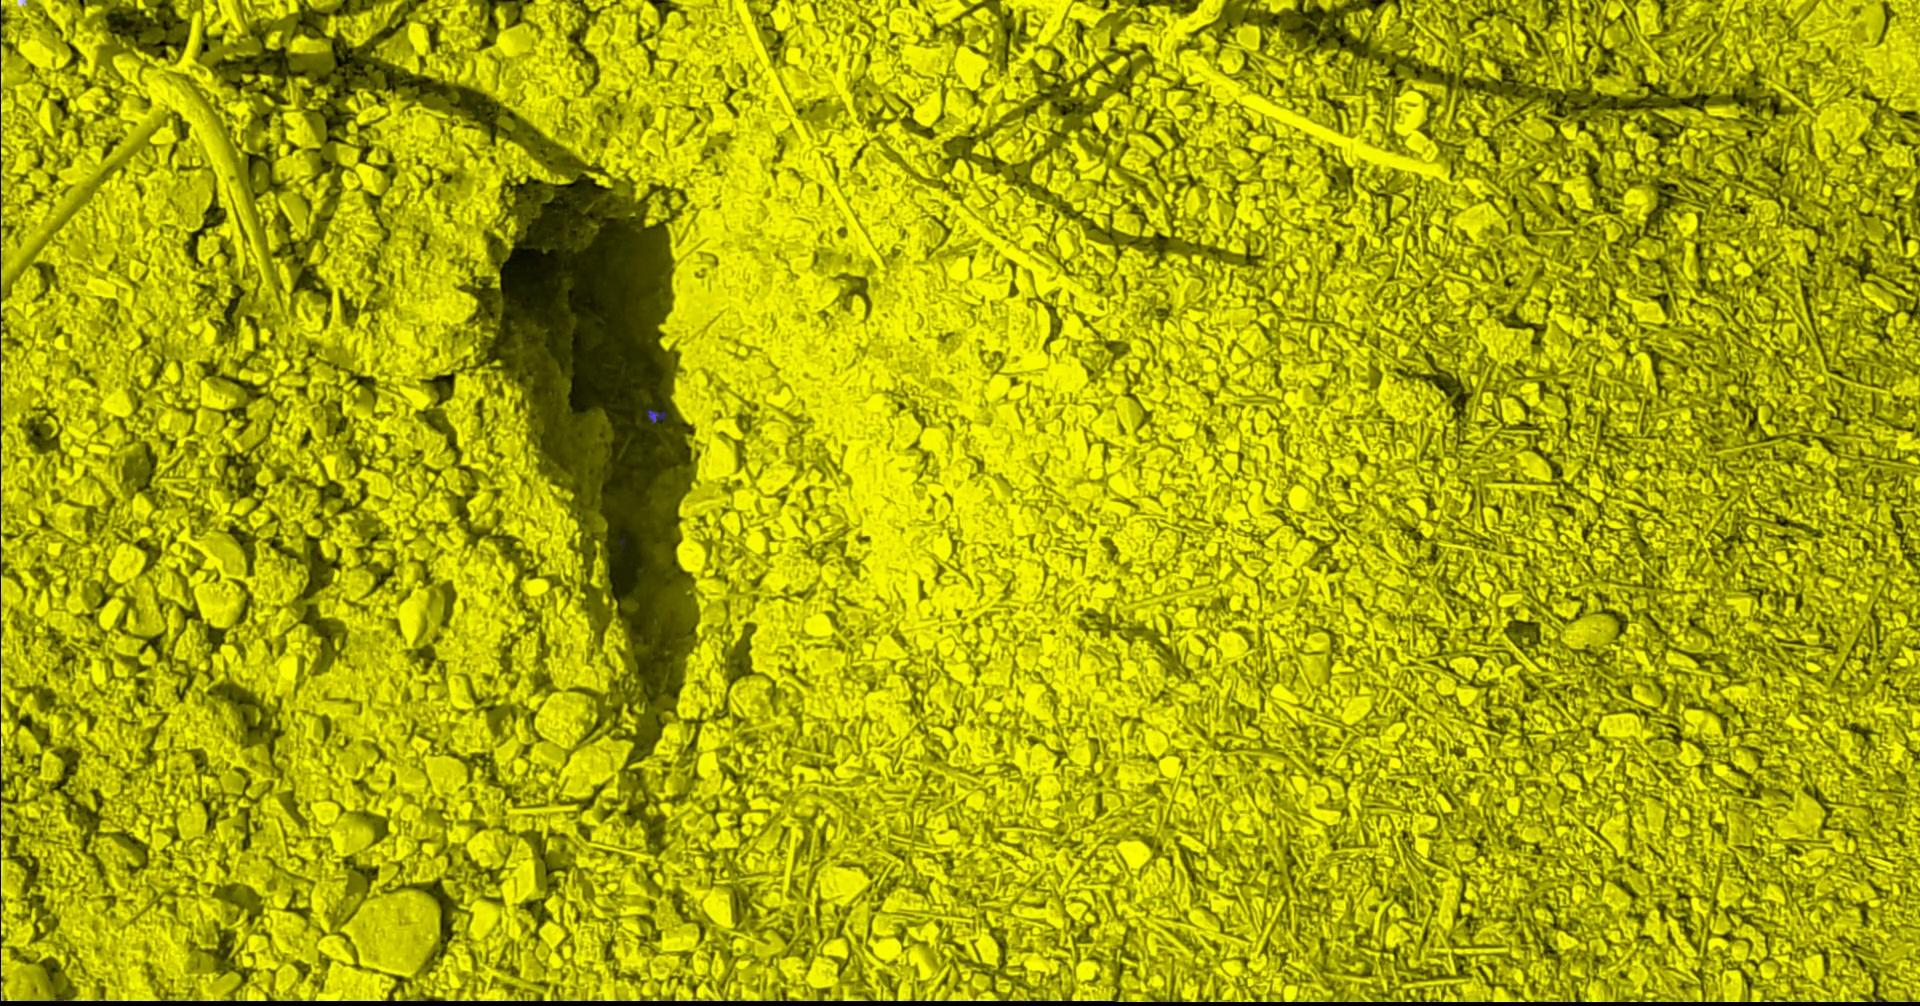ant: (648, 409, 665, 422)
